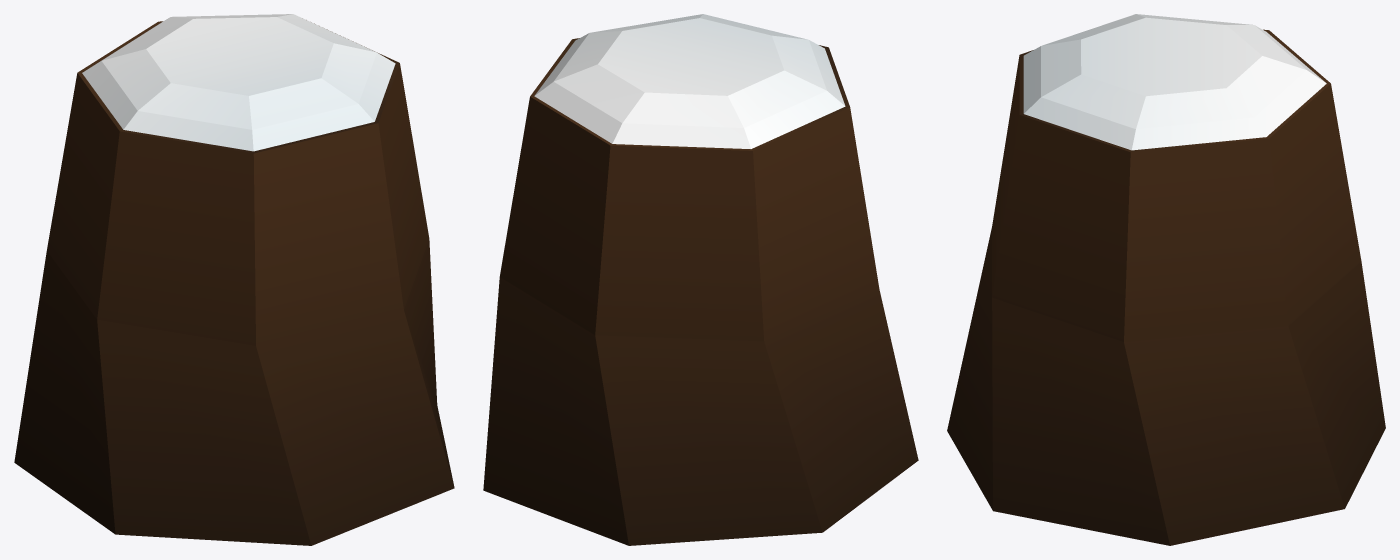
3 renders of one model, left to right at view 1: azimuth 30°, elevation 25°; view 2: azimuth 150°, elevation 25°; view 3: azimuth 270°, elevation 25°, orthographic.
Parts seen in each view (by area): view 1: base.001, neige.001; view 2: base.001, neige.001; view 3: base.001, neige.001.
Part boxes in pixels (bbox=[...]): base.001: bbox=[14, 21, 454, 545]; neige.001: bbox=[82, 14, 395, 151]; base.001: bbox=[483, 38, 918, 545]; neige.001: bbox=[534, 14, 845, 148]; base.001: bbox=[947, 29, 1385, 545]; neige.001: bbox=[1023, 14, 1326, 150].
Size of the model in its own units: 1.35 by 1.38 by 1.38.
Materials: 1 (1 with a texture image).
